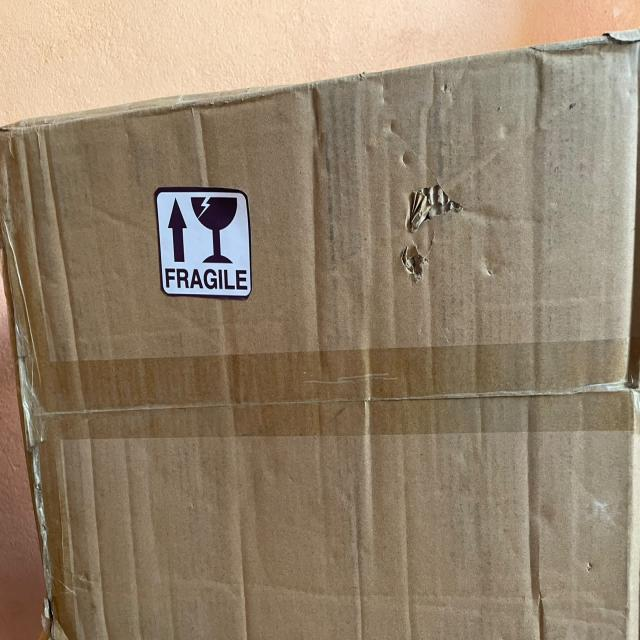carton_box: (0, 16, 640, 640)
fragile_label: (144, 151, 272, 334)
package_damage: (0, 235, 76, 640), (380, 142, 488, 314), (591, 19, 640, 63)
